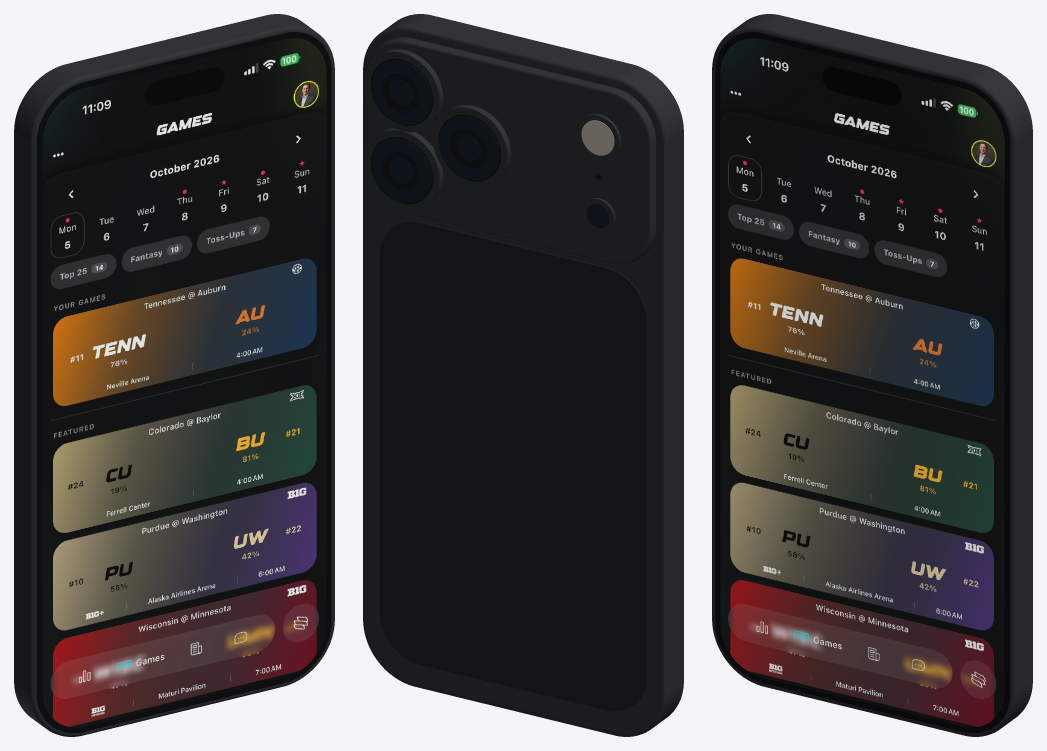
Rendered from iphone-17-pro-max.glb.
The picture shows the model from 3 angles, left to right: view 1: azimuth 30°, elevation 25°; view 2: azimuth 150°, elevation 25°; view 3: azimuth 330°, elevation 25°; orthographic projection.
Parts seen in each view (by area): view 1: display_active_area, chassis_unibody, front_cover_glass, dynamic_island; view 2: back_glass_inset, chassis_unibody, camera_plateau, lens_main_glass, lens_telephoto_glass, lens_main_ring, lens_ultrawide_glass, lens_telephoto_ring, lens_ultrawide_ring, flash_lens, flash_ring, lens_main_barrel (+3 smaller); view 3: display_active_area, chassis_unibody, front_cover_glass, dynamic_island.
Boxes of the visible parts, bbox=[...] form: display_active_area: bbox=[42, 38, 326, 727]; chassis_unibody: bbox=[14, 14, 334, 736]; front_cover_glass: bbox=[36, 32, 331, 732]; dynamic_island: bbox=[145, 67, 224, 105]; back_glass_inset: bbox=[379, 221, 647, 711]; chassis_unibody: bbox=[363, 14, 683, 736]; camera_plateau: bbox=[366, 37, 656, 265]; lens_main_glass: bbox=[371, 60, 431, 124]; lens_telephoto_glass: bbox=[439, 116, 499, 180]; lens_main_ring: bbox=[365, 49, 443, 132]; lens_ultrawide_glass: bbox=[371, 138, 431, 202]; lens_telephoto_ring: bbox=[432, 105, 511, 187]; lens_ultrawide_ring: bbox=[365, 128, 443, 210]; flash_lens: bbox=[581, 120, 614, 155]; flash_ring: bbox=[576, 113, 620, 160]; lens_main_barrel: bbox=[382, 72, 419, 112]; display_active_area: bbox=[720, 38, 1004, 727]; chassis_unibody: bbox=[712, 14, 1032, 736]; front_cover_glass: bbox=[715, 32, 1010, 732]; dynamic_island: bbox=[822, 67, 901, 105].
Bounding box in the file's own units: 0.0798 × 0.1652 × 0.014.
8 materials, 1 textured.
